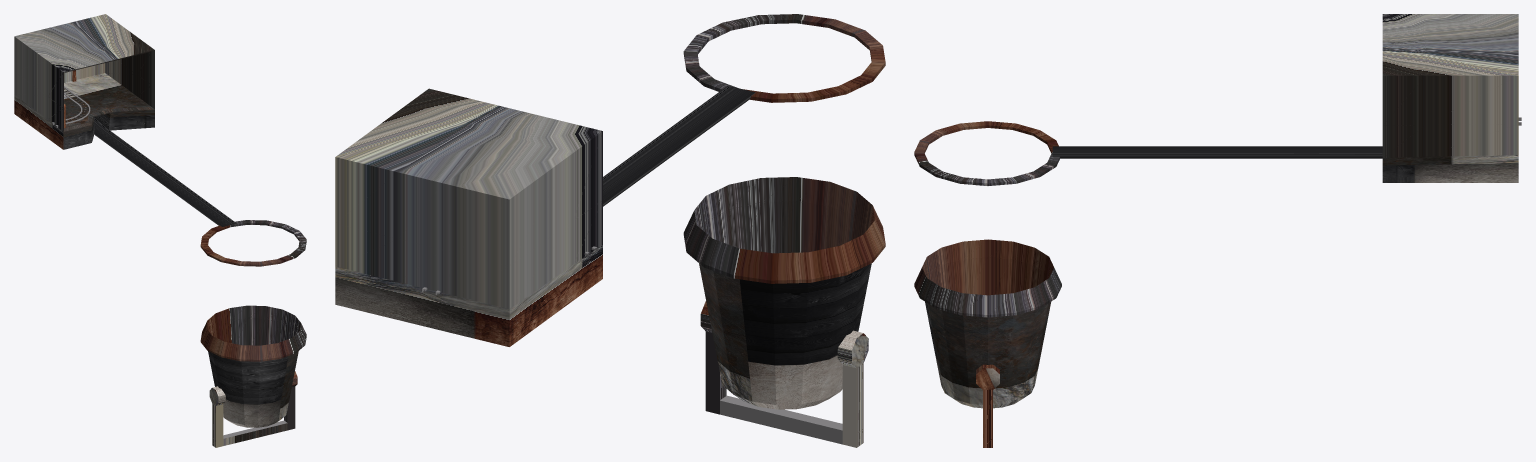
Rendered from Factory_1.fbx.
3 views of the same model, side by side, from view 1: azimuth 30°, elevation 25°; view 2: azimuth 150°, elevation 25°; view 3: azimuth 270°, elevation 25° (orthographic). The views are drawn at different scales.
Parts seen in each view (by area): view 1: Cube.041; view 2: Cube.041; view 3: Cube.041.
Boxes of the visible parts, x1,y1,x2,y2 form: Cube.041: (14, 14, 306, 447); Cube.041: (335, 14, 885, 447); Cube.041: (914, 14, 1521, 447).
Size of the model in its own units: 10456 by 28355 by 41607.
